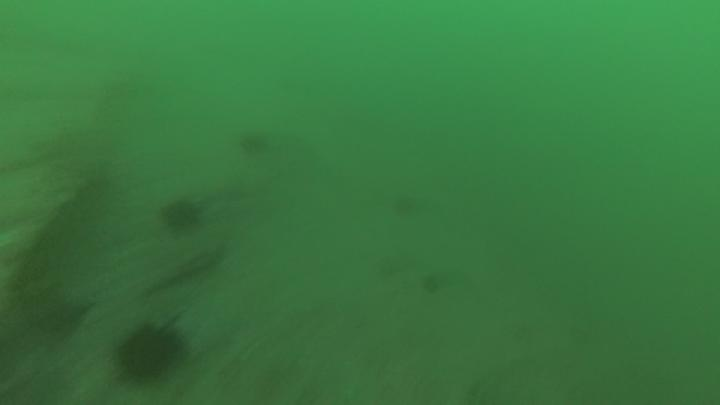echinus: (105, 304, 195, 388), (162, 193, 201, 240)
